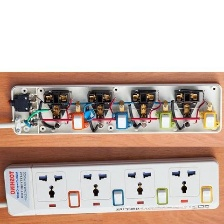three_eye_plug: (0, 152, 221, 218), (7, 78, 223, 138)
